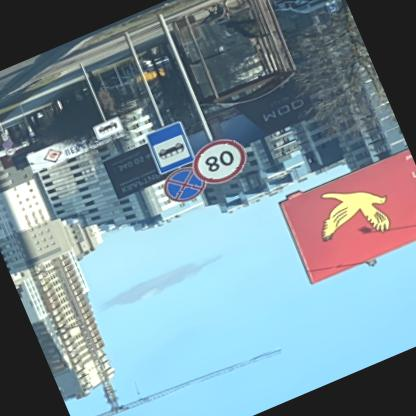speedlimit: (184, 132, 252, 193)
